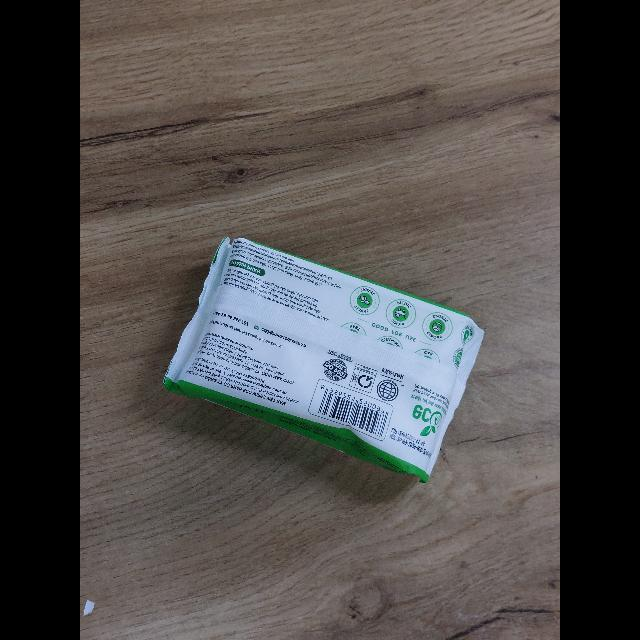khan_giay: (164, 238, 483, 482)
